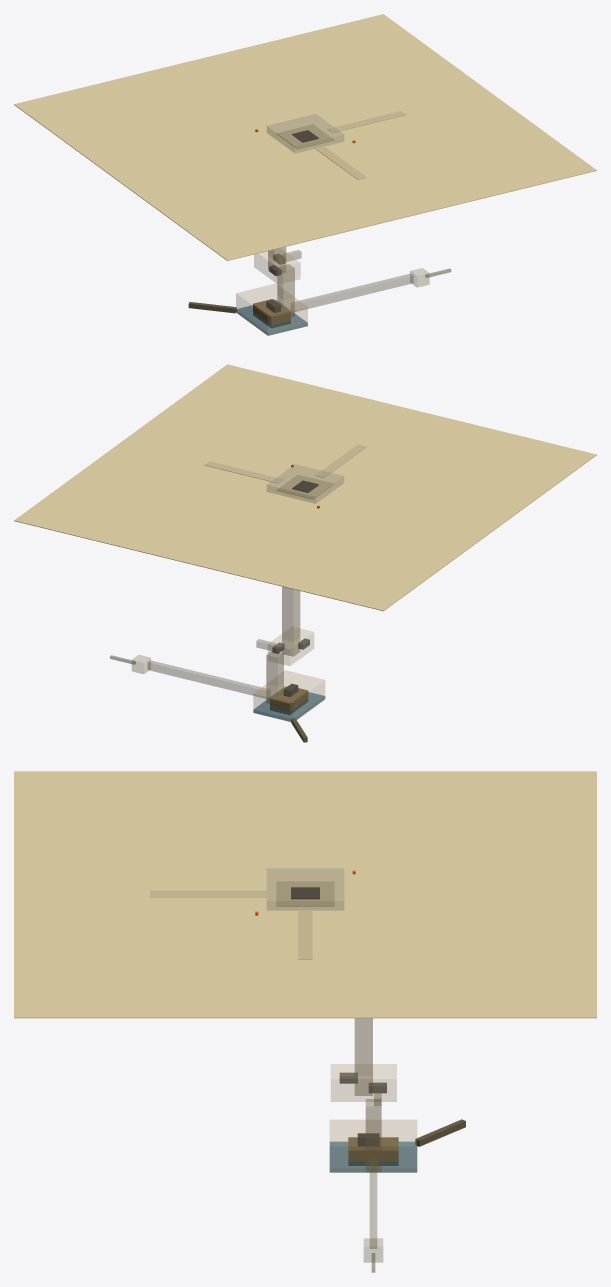
3 renders of one model, top to bottom at view 1: azimuth 30°, elevation 25°; view 2: azimuth 150°, elevation 25°; view 3: azimuth 270°, elevation 25°, orthographic. The views are drawn at different scales.
Visible parts, largest first — view 1: Desert Surface, Chamber I, Modern Protective Fencing, East Corridor, Chamber B, Chamber I Water, Shaft C, Central Island, Excavation Perimeter, Visitor Path (East), Visitor Path (North); view 2: Desert Surface, Chamber I, Modern Protective Fencing, Chamber B, East Corridor, Shaft B, Chamber I Water, Shaft C, Central Island, Excavation Perimeter; view 3: Desert Surface, Chamber I, Modern Protective Fencing, Chamber B, Chamber I Water, Shaft B, Shaft C, Central Island, Excavation Perimeter, Visitor Path (North), Visitor Path (East).
Boxes of the visible parts, bbox=[...] form: Desert Surface: bbox=[14, 14, 596, 260]; Chamber I: bbox=[236, 284, 307, 335]; Modern Protective Fencing: bbox=[267, 114, 343, 153]; East Corridor: bbox=[295, 274, 413, 311]; Chamber B: bbox=[254, 249, 300, 284]; Chamber I Water: bbox=[236, 300, 307, 335]; Shaft C: bbox=[277, 264, 294, 314]; Central Island: bbox=[253, 299, 290, 327]; Excavation Perimeter: bbox=[276, 124, 334, 149]; Visitor Path (East): bbox=[327, 111, 406, 132]; Visitor Path (North): bbox=[315, 146, 366, 179]; Desert Surface: bbox=[14, 364, 596, 611]; Chamber I: bbox=[253, 670, 324, 721]; Modern Protective Fencing: bbox=[267, 464, 343, 503]; Chamber B: bbox=[268, 627, 313, 665]; East Corridor: bbox=[148, 660, 266, 698]; Shaft B: bbox=[282, 586, 300, 656]; Chamber I Water: bbox=[253, 686, 325, 721]; Shaft C: bbox=[266, 651, 283, 700]; Central Island: bbox=[270, 686, 308, 714]; Excavation Perimeter: bbox=[276, 475, 333, 499]; Desert Surface: bbox=[14, 771, 596, 1018]; Chamber I: bbox=[330, 1120, 416, 1172]; Modern Protective Fencing: bbox=[267, 868, 343, 910]; Chamber B: bbox=[331, 1064, 396, 1101]; Chamber I Water: bbox=[330, 1142, 416, 1172]; Shaft B: bbox=[354, 1018, 372, 1095]; Shaft C: bbox=[365, 1099, 381, 1172]; Central Island: bbox=[348, 1137, 398, 1165]; Excavation Perimeter: bbox=[276, 881, 334, 906]; Visitor Path (North): bbox=[150, 890, 266, 897]; Visitor Path (East): bbox=[298, 910, 312, 959].
Size of what is drawn, in the model's own units: 60 by 31.9 by 60.
